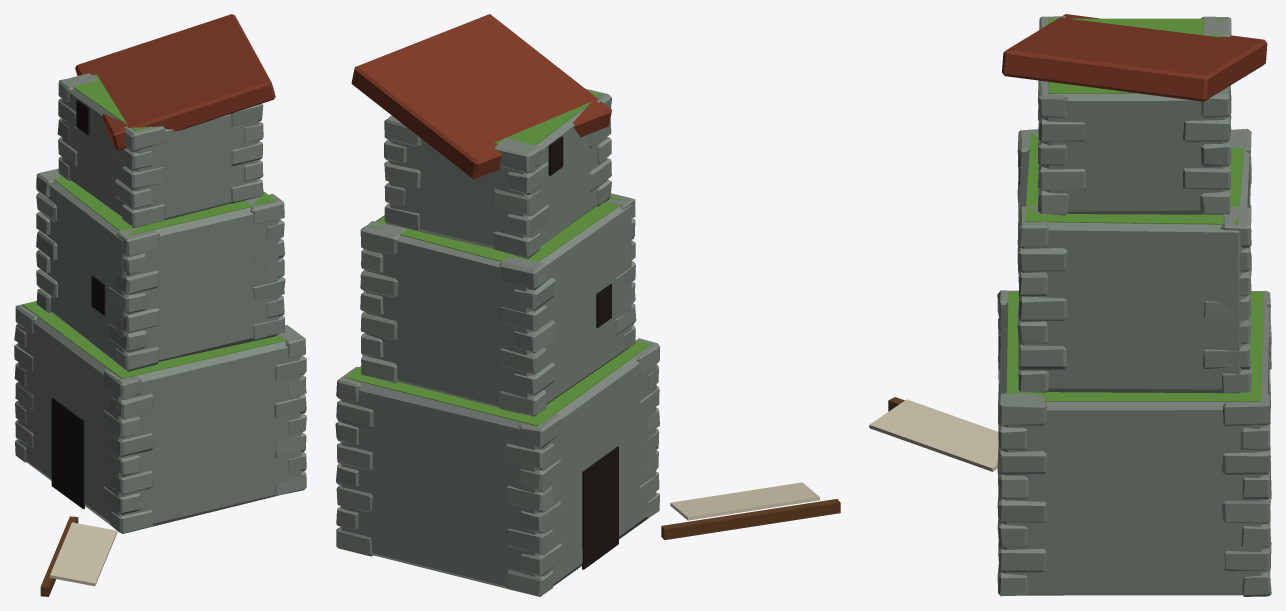
Rendered from WindmillTower.fbx.
3 renders of one model, left to right at view 1: azimuth 30°, elevation 25°; view 2: azimuth 150°, elevation 25°; view 3: azimuth 270°, elevation 25°, orthographic. The views are drawn at different scales.
Visible parts, largest first — view 1: Tower, Roof, Moss, Dark, Sail, Spar; view 2: Tower, Roof, Moss, Dark, Sail, Spar; view 3: Tower, Roof, Moss, Sail.
Boxes of the visible parts, x1,y1,x2,y2 form: Tower: [14, 73, 306, 533]; Roof: [75, 14, 275, 150]; Moss: [22, 74, 285, 378]; Dark: [51, 99, 105, 509]; Sail: [49, 522, 117, 586]; Spar: [40, 516, 78, 596]; Tower: [335, 88, 660, 596]; Roof: [351, 14, 611, 179]; Moss: [345, 92, 650, 426]; Dark: [548, 136, 618, 569]; Sail: [670, 482, 819, 520]; Spar: [661, 499, 840, 540]; Tower: [997, 16, 1271, 596]; Roof: [1002, 14, 1267, 101]; Moss: [1006, 18, 1264, 401]; Sail: [869, 399, 998, 471].
Size of the model in its own units: 17.46 by 21.78 by 15.02.
